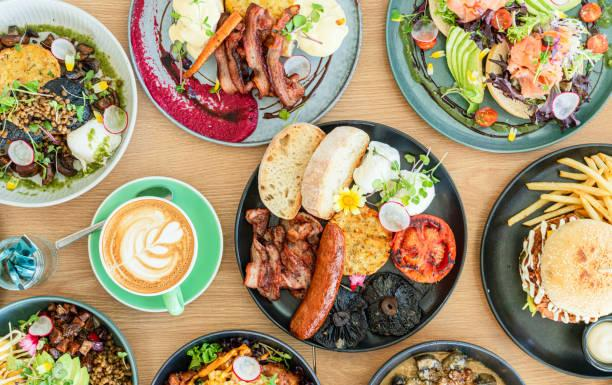Braised Crucian Carp: (238, 113, 468, 350), (386, 1, 604, 154), (128, 0, 349, 150), (2, 0, 138, 208)
